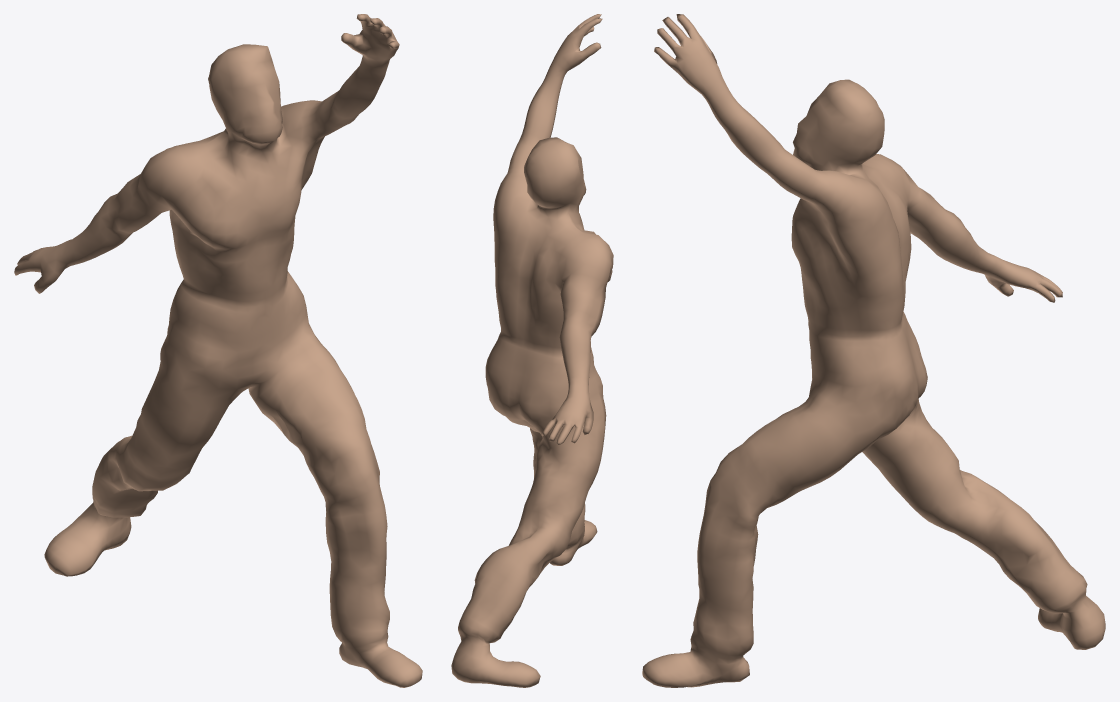
The model's file is Statue_Test.fbx.
3 renders of one model, left to right at view 1: azimuth 30°, elevation 25°; view 2: azimuth 150°, elevation 25°; view 3: azimuth 270°, elevation 25°, orthographic. The views are drawn at different scales.
Parts seen in each view (by area): view 1: Retopo 1; view 2: Retopo 1; view 3: Retopo 1.
Boxes of the visible parts, bbox=[...] form: Retopo 1: bbox=[14, 14, 422, 687]; Retopo 1: bbox=[451, 14, 613, 687]; Retopo 1: bbox=[642, 14, 1105, 687].
Size of the model in its own units: 576 by 1747 by 1118.
